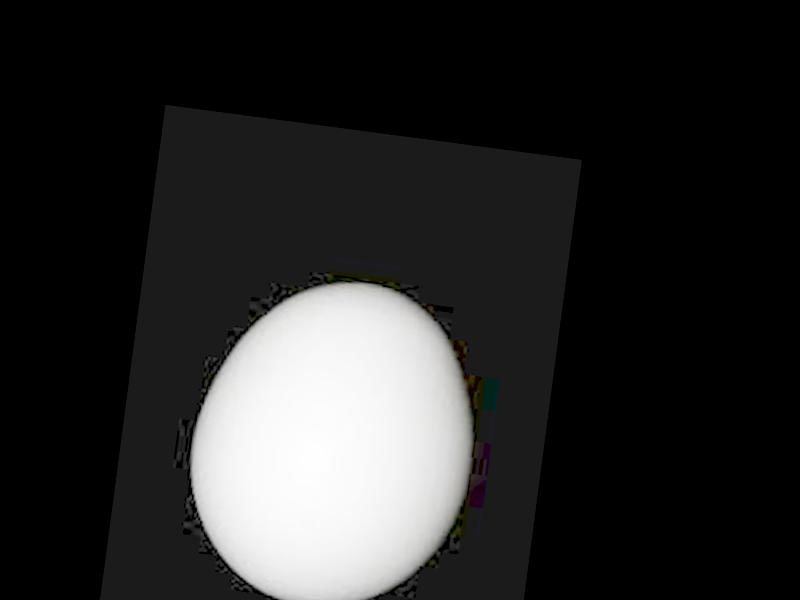Eggs: (175, 268, 484, 600)
